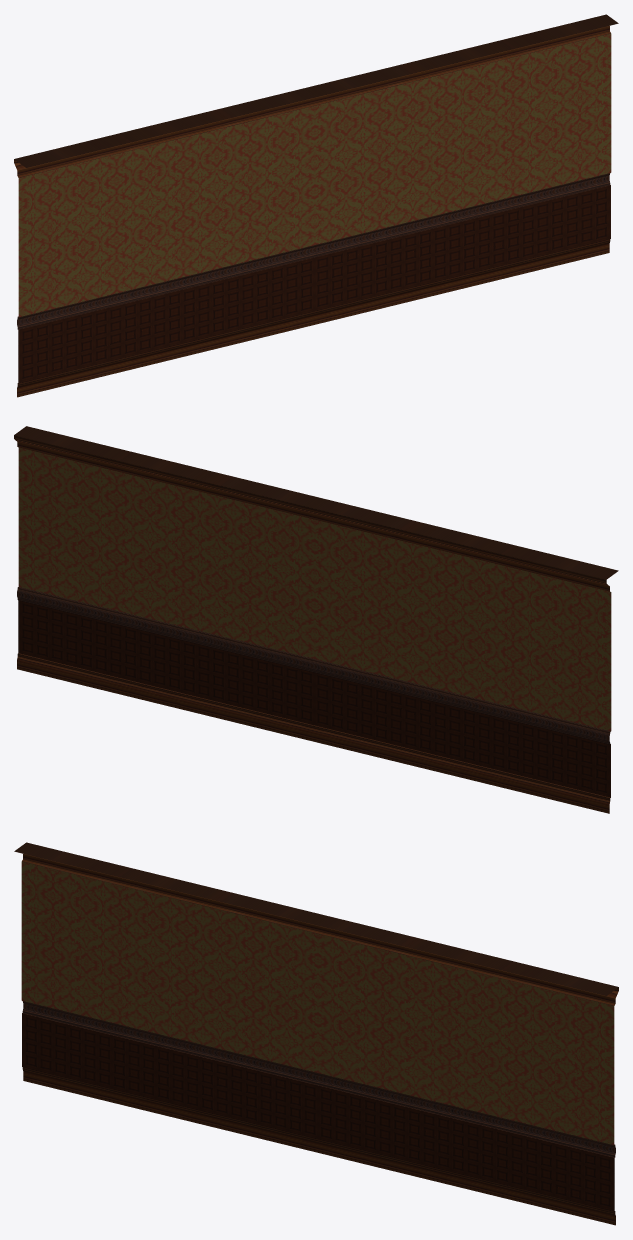
File: Wall1_Long.fbx
3 renders of one model, top to bottom at view 1: azimuth 30°, elevation 25°; view 2: azimuth 150°, elevation 25°; view 3: azimuth 330°, elevation 25°, orthographic.
Visible parts, largest first — view 1: WallSection1Med; view 2: WallSection1Med; view 3: WallSection1Med.
Boxes of the visible parts, x1,y1,x2,y2 form: WallSection1Med: (14, 14, 618, 397); WallSection1Med: (14, 426, 618, 813); WallSection1Med: (14, 842, 618, 1225).
Size of the model in its own units: 738 by 281 by 26.8.
